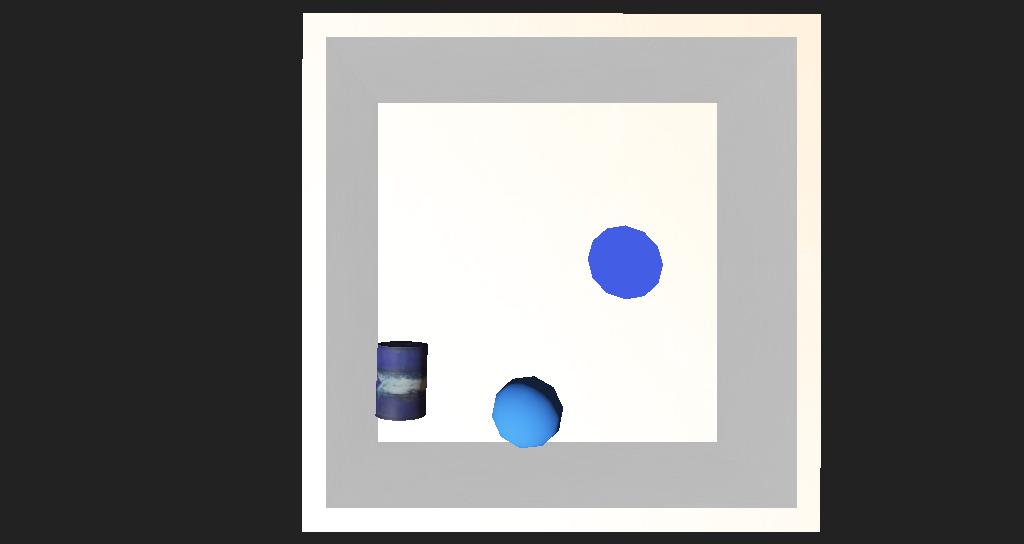cone: (347, 313, 408, 365)
cylinder: (529, 239, 603, 296)
sphere: (451, 336, 519, 379)
